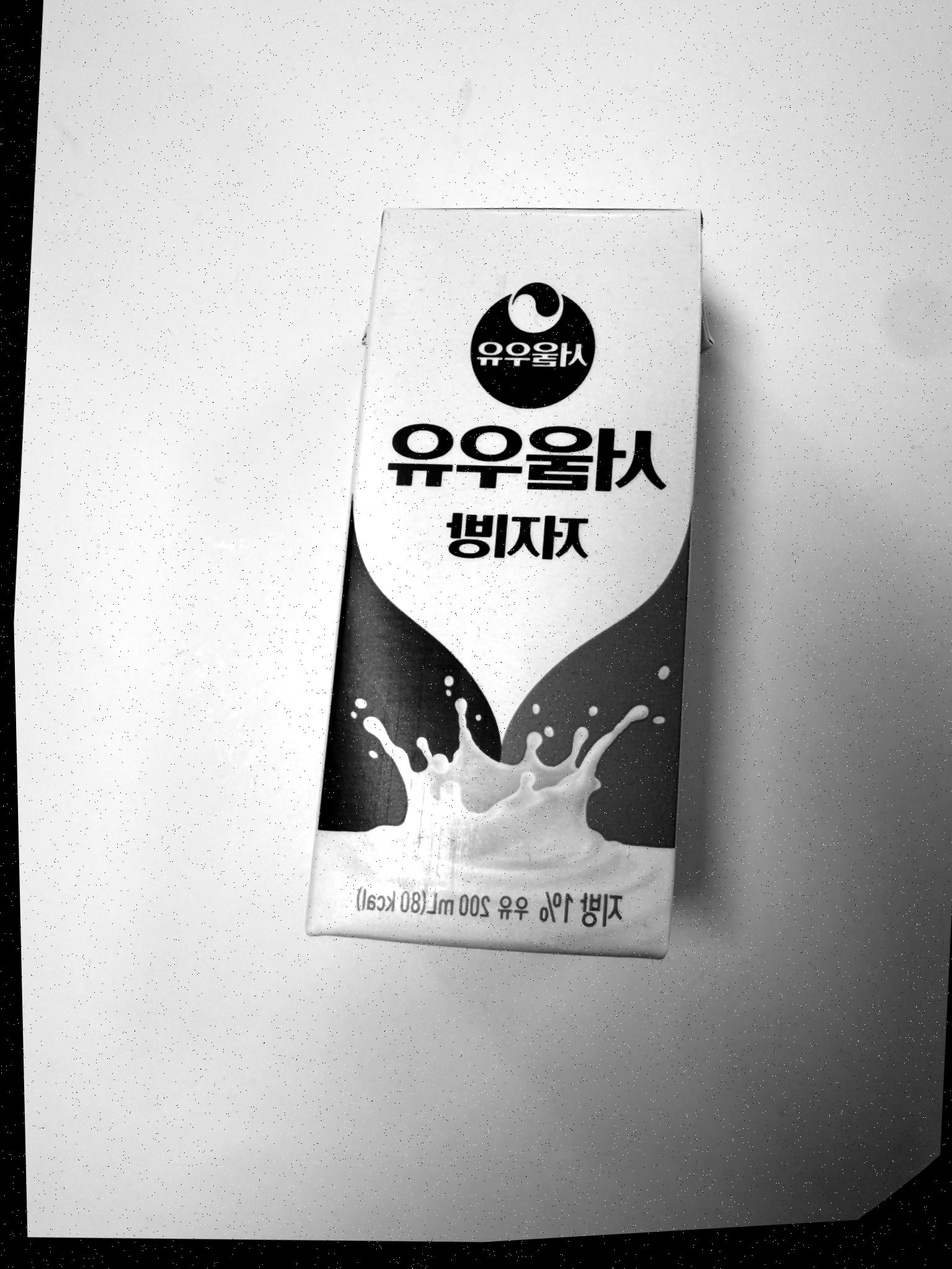milk_blue: (307, 209, 705, 957)
